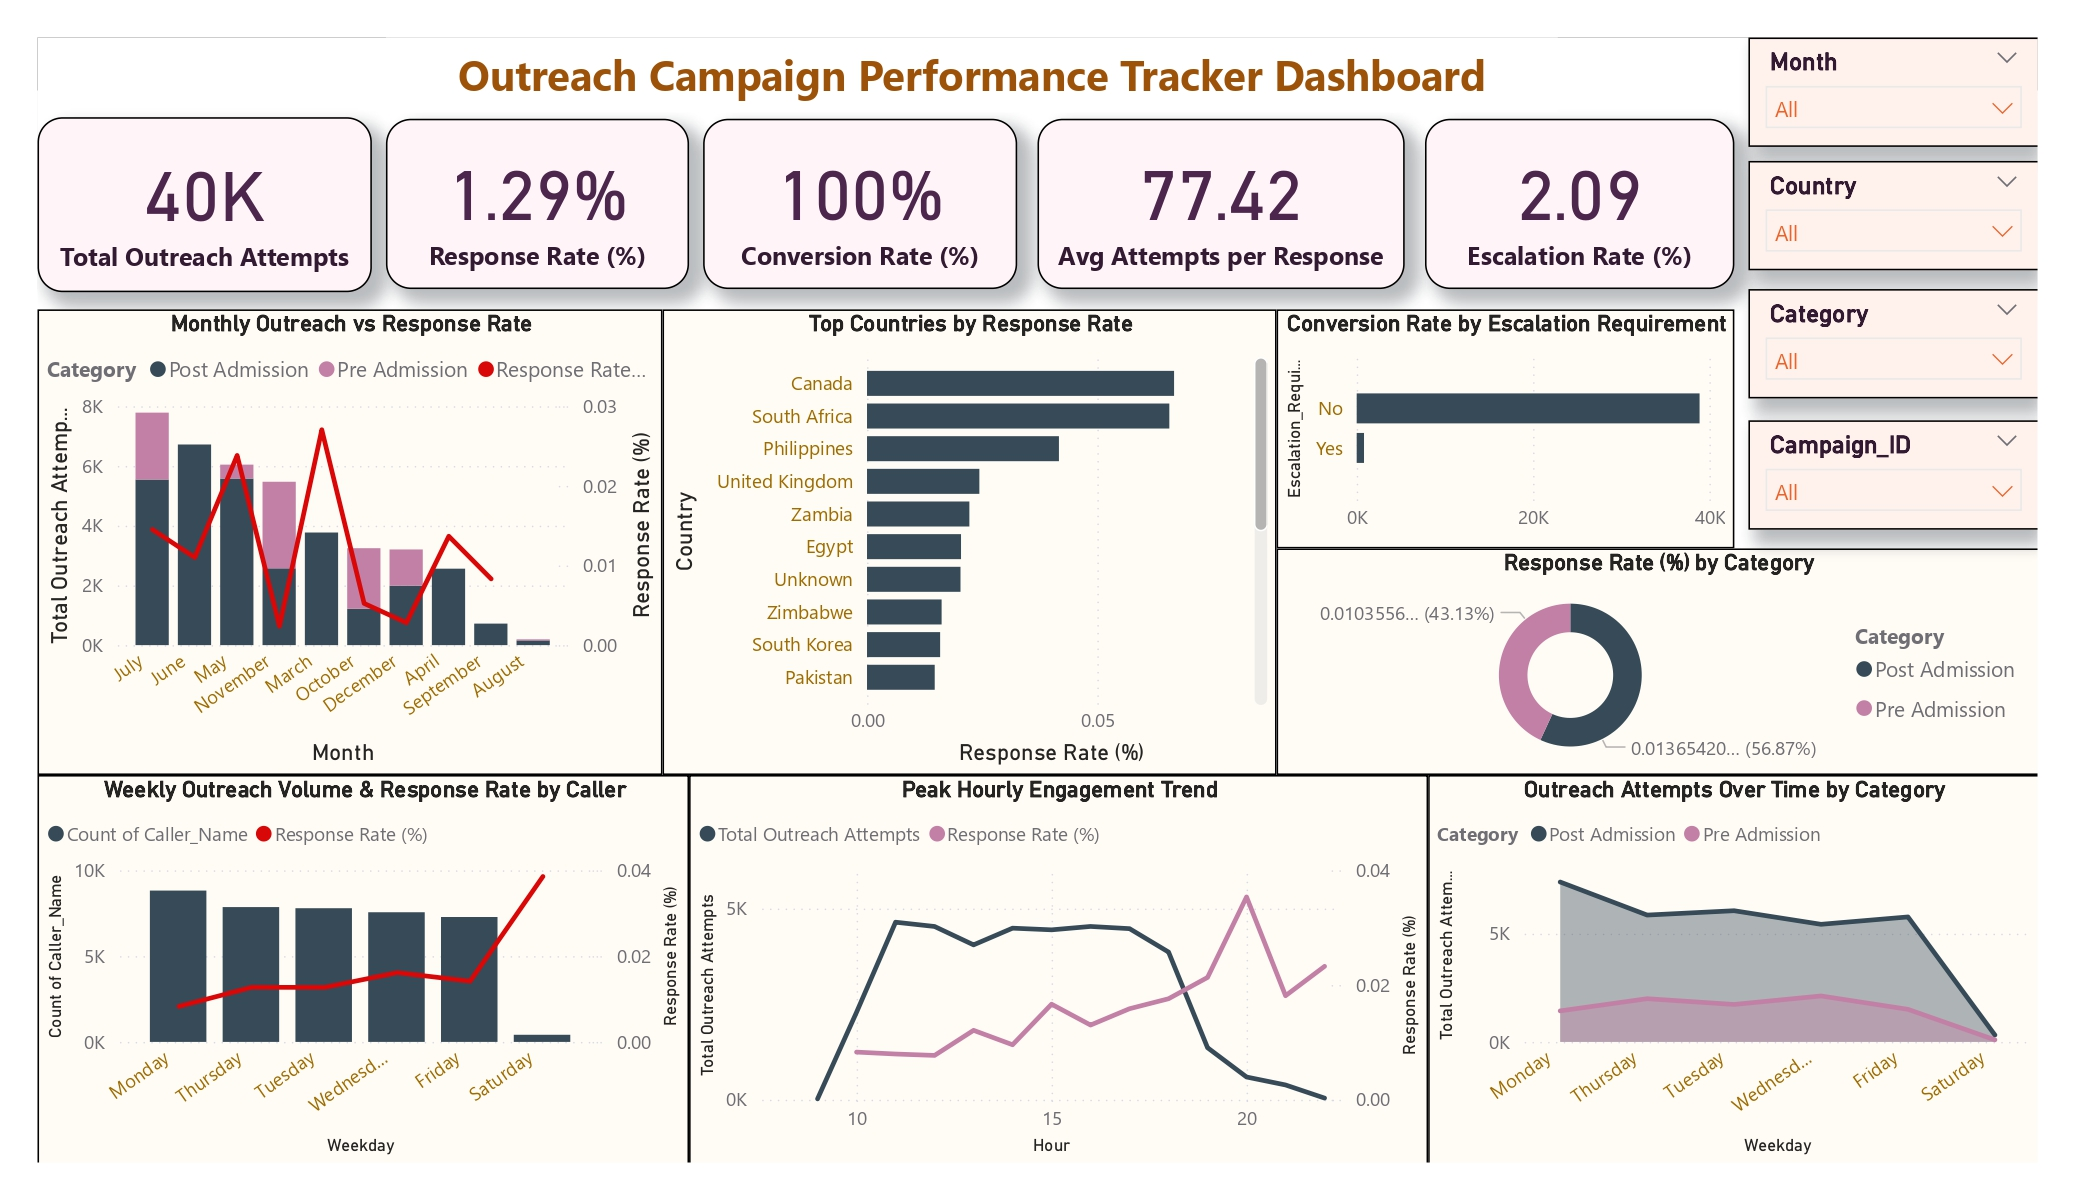

This screenshot's page, from the dashboard's own definition file:
{"tool":"powerbi","page":{"name":"Page 1","canvas":[1280,720],"ordinal":0},"visuals":[{"type":"card","fields":{"Values":["Cleaned_Outreach_Campaign_Applicants_FinalData.Total Outreach Attempts"]},"box":[0,50.5,213.8,112.8],"z":0},{"type":"card","fields":{"Values":["Cleaned_Outreach_Campaign_Applicants_FinalData.Response Rate (%)"]},"box":[222.9,51.8,194.4,108.9],"z":1000},{"type":"card","fields":{"Values":["Cleaned_Outreach_Campaign_Applicants_FinalData.Conversion Rate (%)"]},"box":[426.4,51.8,200.9,108.9],"z":2000},{"type":"card","fields":{"Values":["Cleaned_Outreach_Campaign_Applicants_FinalData.Avg Attempts per Response"]},"box":[640.3,51.8,234.6,108.9],"z":3000},{"type":"card","fields":{"Values":["Cleaned_Outreach_Campaign_Applicants_FinalData.Escalation Rate (%)"]},"box":[887.8,51.8,198.3,108.9],"z":4000},{"type":"lineStackedColumnComboChart","title":"Monthly Outreach vs Response Rate","fields":{"Category":["Cleaned_Outreach_Campaign_Applicants_FinalData.Month"],"Y":["Cleaned_Outreach_Campaign_Applicants_FinalData.Total Outreach Attempts"],"Y2":["Cleaned_Outreach_Campaign_Applicants_FinalData.Response Rate (%)"],"Series":["Cleaned_Outreach_Campaign_Applicants_FinalData.Category"]},"box":[0,173.7,400.5,298.1],"z":5000},{"type":"donutChart","fields":{"Category":["Cleaned_Outreach_Campaign_Applicants_FinalData.Category"],"Y":["Cleaned_Outreach_Campaign_Applicants_FinalData.Response Rate (%)"]},"box":[793.2,326.6,487.3,145.2],"z":6000},{"type":"clusteredBarChart","title":"Conversion Rate by Escalation Requirement","fields":{"Category":["Cleaned_Outreach_Campaign_Applicants_FinalData.Escalation_Required"],"Y":["Sum(Cleaned_Outreach_Campaign_Applicants_FinalData.Is_Converted)"]},"box":[793.2,173.7,292.9,152.9],"z":7000},{"type":"clusteredBarChart","title":"Top Countries by Response Rate","fields":{"Category":["Cleaned_Outreach_Campaign_Applicants_FinalData.Country"],"Y":["Cleaned_Outreach_Campaign_Applicants_FinalData.Response Rate (%)"]},"box":[400.5,173.7,392.7,298.1],"z":8000},{"type":"areaChart","title":"Outreach Attempts Over Time by Category","fields":{"Category":["Cleaned_Outreach_Campaign_Applicants_FinalData.Weekday"],"Y":["Cleaned_Outreach_Campaign_Applicants_FinalData.Total Outreach Attempts"],"Series":["Cleaned_Outreach_Campaign_Applicants_FinalData.Category"]},"box":[890.4,471.8,390.1,248.8],"z":9000},{"type":"lineClusteredColumnComboChart","title":"Weekly Outreach Volume & Response Rate by Caller","fields":{"Category":["Cleaned_Outreach_Campaign_Applicants_FinalData.Weekday"],"Y2":["Cleaned_Outreach_Campaign_Applicants_FinalData.Response Rate (%)"],"Y":["CountNonNull(Cleaned_Outreach_Campaign_Applicants_FinalData.Caller_Name)"]},"box":[0,471.8,417.3,248.8],"z":10000},{"type":"lineChart","title":"Peak Hourly Engagement Trend","fields":{"Category":["Cleaned_Outreach_Campaign_Applicants_FinalData.Hour"],"Y":["Cleaned_Outreach_Campaign_Applicants_FinalData.Total Outreach Attempts"],"Y2":["Cleaned_Outreach_Campaign_Applicants_FinalData.Response Rate (%)"]},"box":[417.3,471.8,473.1,248.8],"z":11000},{"type":"slicer","fields":{"Values":["Cleaned_Outreach_Campaign_Applicants_FinalData.Month"]},"box":[1095.2,0,185.3,70],"z":12000},{"type":"slicer","fields":{"Values":["Cleaned_Outreach_Campaign_Applicants_FinalData.Country"]},"box":[1095.2,79.1,185.3,70],"z":13000},{"type":"slicer","fields":{"Values":["Cleaned_Outreach_Campaign_Applicants_FinalData.Category"]},"box":[1095.2,160.7,185.3,70],"z":14000},{"type":"slicer","fields":{"Values":["Cleaned_Outreach_Campaign_Applicants_FinalData.Campaign_ID"]},"box":[1095.2,245,185.3,70],"z":15000},{"type":"textbox","box":[222.9,0,750.4,48],"z":16000}]}

Visuals, with their boxes on the page's 1280x720 design canvas (x1, y1, x2, y2). These are canvas units, not pixel positions in the 2075x1200 screenshot, which may show the page scaled, cropped or inside an application window:
card - Cleaned_Outreach_Campaign_Applicants_FinalData.Total Outreach Attempts: <box>0,50,214,163</box>
card - Cleaned_Outreach_Campaign_Applicants_FinalData.Response Rate (%): <box>223,52,417,161</box>
card - Cleaned_Outreach_Campaign_Applicants_FinalData.Conversion Rate (%): <box>426,52,627,161</box>
card - Cleaned_Outreach_Campaign_Applicants_FinalData.Avg Attempts per Response: <box>640,52,875,161</box>
card - Cleaned_Outreach_Campaign_Applicants_FinalData.Escalation Rate (%): <box>888,52,1086,161</box>
"Monthly Outreach vs Response Rate" lineStackedColumnComboChart: <box>0,174,400,472</box>
donutChart - Cleaned_Outreach_Campaign_Applicants_FinalData.Category x Cleaned_Outreach_Campaign_Applicants_FinalData.Response Rate (%): <box>793,327,1280,472</box>
"Conversion Rate by Escalation Requirement" clusteredBarChart: <box>793,174,1086,327</box>
"Top Countries by Response Rate" clusteredBarChart: <box>400,174,793,472</box>
"Outreach Attempts Over Time by Category" areaChart: <box>890,472,1280,721</box>
"Weekly Outreach Volume & Response Rate by Caller" lineClusteredColumnComboChart: <box>0,472,417,721</box>
"Peak Hourly Engagement Trend" lineChart: <box>417,472,890,721</box>
slicer - Cleaned_Outreach_Campaign_Applicants_FinalData.Month: <box>1095,0,1280,70</box>
slicer - Cleaned_Outreach_Campaign_Applicants_FinalData.Country: <box>1095,79,1280,149</box>
slicer - Cleaned_Outreach_Campaign_Applicants_FinalData.Category: <box>1095,161,1280,231</box>
slicer - Cleaned_Outreach_Campaign_Applicants_FinalData.Campaign_ID: <box>1095,245,1280,315</box>
textbox: <box>223,0,973,48</box>
